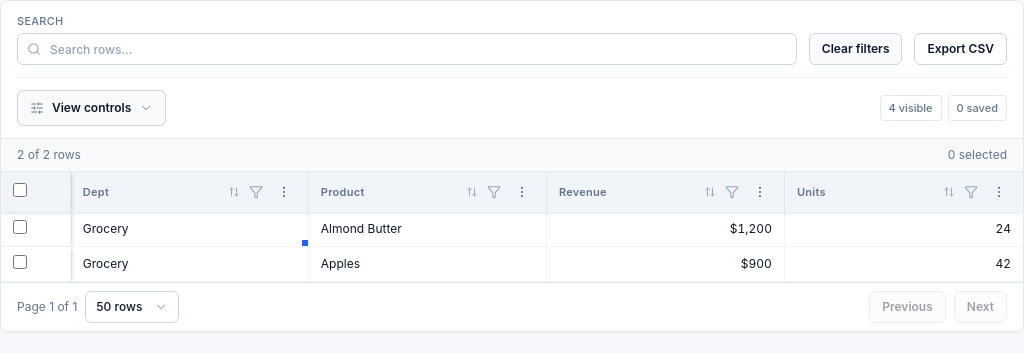
DataGrid global search › matches formatted cell text, not just raw values
Type "$1,200" into the field with placeholder "Search rows...".
click(407, 49); type("$1,200")  # box x1=17 y1=33 x2=797 y2=65
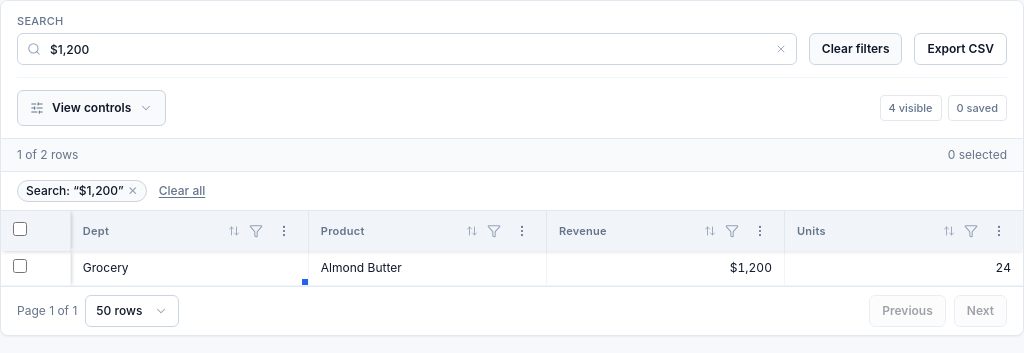
Expected: the text "Almond Butter" is shown, x1=309 y1=251 x2=547 y2=286
Expected: the text "Apples" is gone
